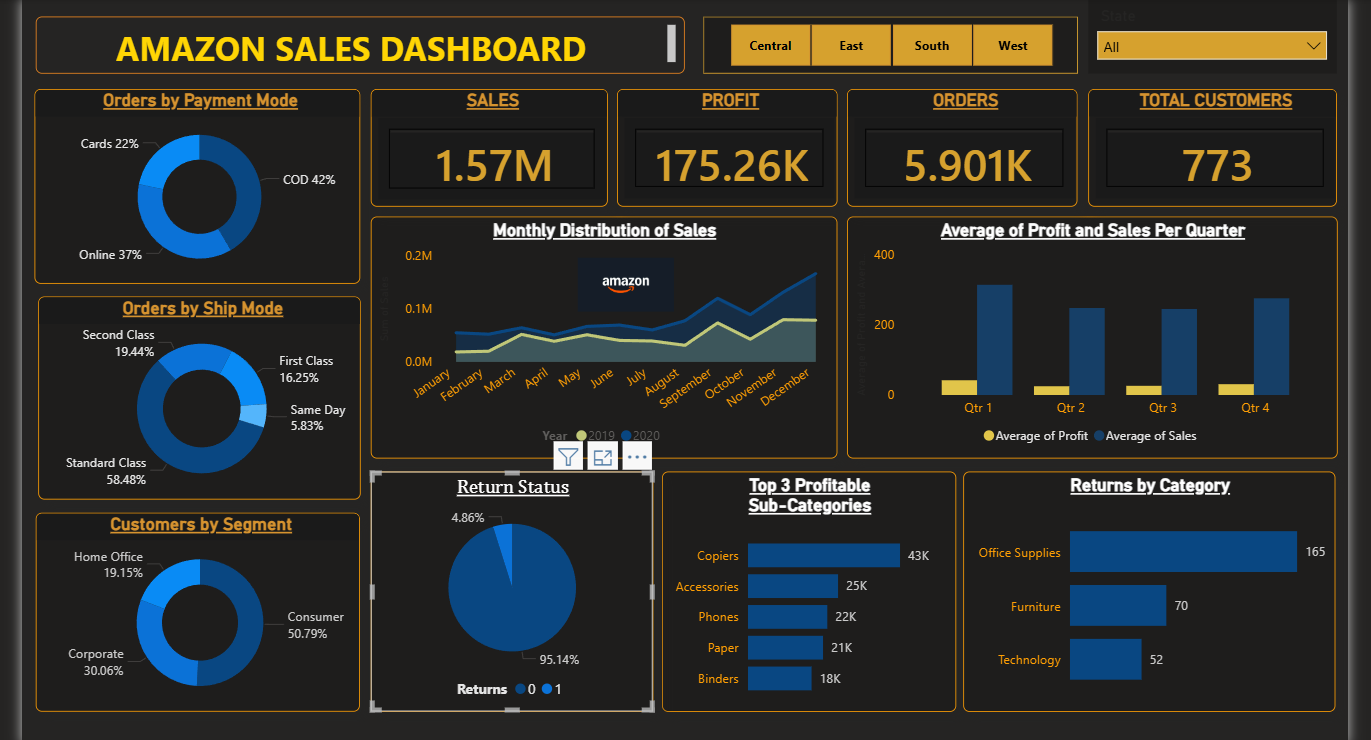

This screenshot's page, from the dashboard's own definition file:
{"tool":"powerbi","page":{"name":"Amazon sales dashboard","canvas":[1280,720],"ordinal":0},"visuals":[{"type":"textbox","box":[13.3,16.9,626.1,55.5],"z":0},{"type":"donutChart","title":"Orders by Payment Mode","fields":{"Category":["Sheet1.Payment Mode"],"Y":["CountNonNull(Sheet1.Order ID)"]},"box":[12.3,86.4,314.2,188],"z":1000},{"type":"donutChart","title":"Orders by Ship Mode","fields":{"Category":["Sheet1.Ship Mode"],"Y":["CountNonNull(Sheet1.Order ID)"]},"box":[15.1,286.8,311.5,196.2],"z":2000},{"type":"lineChart","title":"Monthly Distribution of Sales","fields":{"Category":["Sheet1.Order Date.Variation.Date Hierarchy.Month"],"Y":["Sum(Sheet1.Sales)"],"Series":["Sheet1.Order Date.Variation.Date Hierarchy.Year"]},"box":[336.2,209.9,450.1,233.3],"z":3000},{"type":"clusteredColumnChart","title":"Average of Profit and Sales Per Quarter","fields":{"Category":["Sheet1.Order Date.Variation.Date Hierarchy.Quarter"],"Y":["Avg(Sheet1.Profit)","Avg(Sheet1.Sales)"]},"box":[795.9,209.9,473.4,233.3],"z":4000},{"type":"donutChart","title":"Customers by Segment","fields":{"Series":["Sheet1.Segment"],"Y":["CountNonNull(Sheet1.Customer ID)"]},"box":[13.7,495.4,312.9,192.1],"z":5000},{"type":"clusteredBarChart","title":"Top 3 Profitable Sub-Categories","fields":{"Category":["Sheet1.Sub-Category"],"Y":["Sum(Sheet1.Profit)"]},"box":[617.5,455.6,284,231.9],"z":6000},{"type":"pieChart","title":"Return Status","fields":{"Y":["CountNonNull(Sheet1.Order ID)"],"Category":["Sheet1.Returns"]},"box":[336.2,455.6,273.1,231.9],"z":7000},{"type":"cardVisual","title":"SALES","fields":{"Data":["Sum(Sheet1.Sales)"]},"box":[336.2,86.4,229.2,113.9],"z":8000},{"type":"cardVisual","title":"PROFIT","fields":{"Data":["Sum(Sheet1.Profit)"]},"box":[573.8,86.6,212.7,113.8],"z":9000},{"type":"cardVisual","title":"ORDERS","fields":{"Data":["CountNonNull(Sheet1.Order ID)"]},"box":[796.4,86.6,222.6,113.8],"z":10000},{"type":"cardVisual","title":"TOTAL CUSTOMERS","fields":{"Data":["Count(Sheet1.Customer ID)"]},"box":[1029.1,86.9,240.1,113.4],"z":11000},{"type":"slicer","fields":{"Values":["Sheet1.Region"]},"box":[657.5,16.9,361.9,55.5],"z":12000},{"type":"image","box":[526,249.7,113.4,51.9],"z":13000},{"type":"slicer","fields":{"Values":["Sheet1.State"]},"box":[1029.1,0,240.1,72.4],"z":14000},{"type":"clusteredBarChart","title":"Returns by Category","fields":{"Category":["Sheet1.Category"],"Y":["Sum(Sheet1.Returns)"]},"box":[908.4,455.6,359.5,231.9],"z":15001}]}

Visuals, with their boxes in screenshot pixels (x1, y1, x2, y2):
textbox: x1=25, y1=11, x2=682, y2=69
"Orders by Payment Mode" donutChart: x1=24, y1=84, x2=353, y2=281
"Orders by Ship Mode" donutChart: x1=27, y1=294, x2=353, y2=500
"Monthly Distribution of Sales" lineChart: x1=364, y1=213, x2=836, y2=458
"Average of Profit and Sales Per Quarter" clusteredColumnChart: x1=846, y1=213, x2=1343, y2=458
"Customers by Segment" donutChart: x1=25, y1=513, x2=353, y2=714
"Top 3 Profitable Sub-Categories" clusteredBarChart: x1=659, y1=471, x2=957, y2=714
"Return Status" pieChart: x1=364, y1=471, x2=650, y2=714
"SALES" cardVisual: x1=364, y1=84, x2=604, y2=203
"PROFIT" cardVisual: x1=613, y1=84, x2=836, y2=203
"ORDERS" cardVisual: x1=847, y1=84, x2=1080, y2=203
"TOTAL CUSTOMERS" cardVisual: x1=1091, y1=84, x2=1343, y2=203
slicer - Sheet1.Region: x1=701, y1=11, x2=1081, y2=69
image: x1=563, y1=255, x2=682, y2=309
slicer - Sheet1.State: x1=1091, y1=0, x2=1343, y2=69
"Returns by Category" clusteredBarChart: x1=964, y1=471, x2=1341, y2=714
